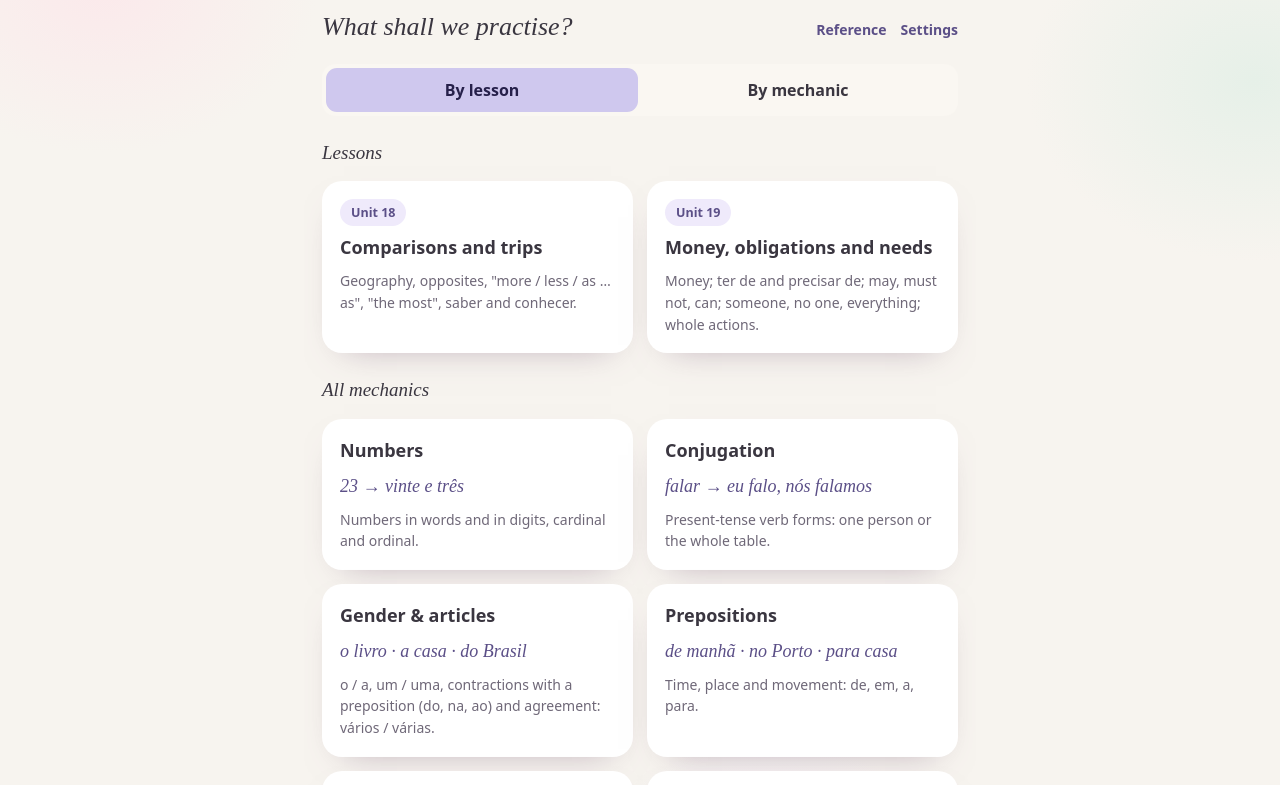
it: Home › switches to a flat list of mechanics tagged by unit, and remembers the choice
This screenshot has width=1280, height=785.
Click the button with test id "home-view-mechanics": coordinates (798, 90) [642,68,954,112]
(page scrolled)
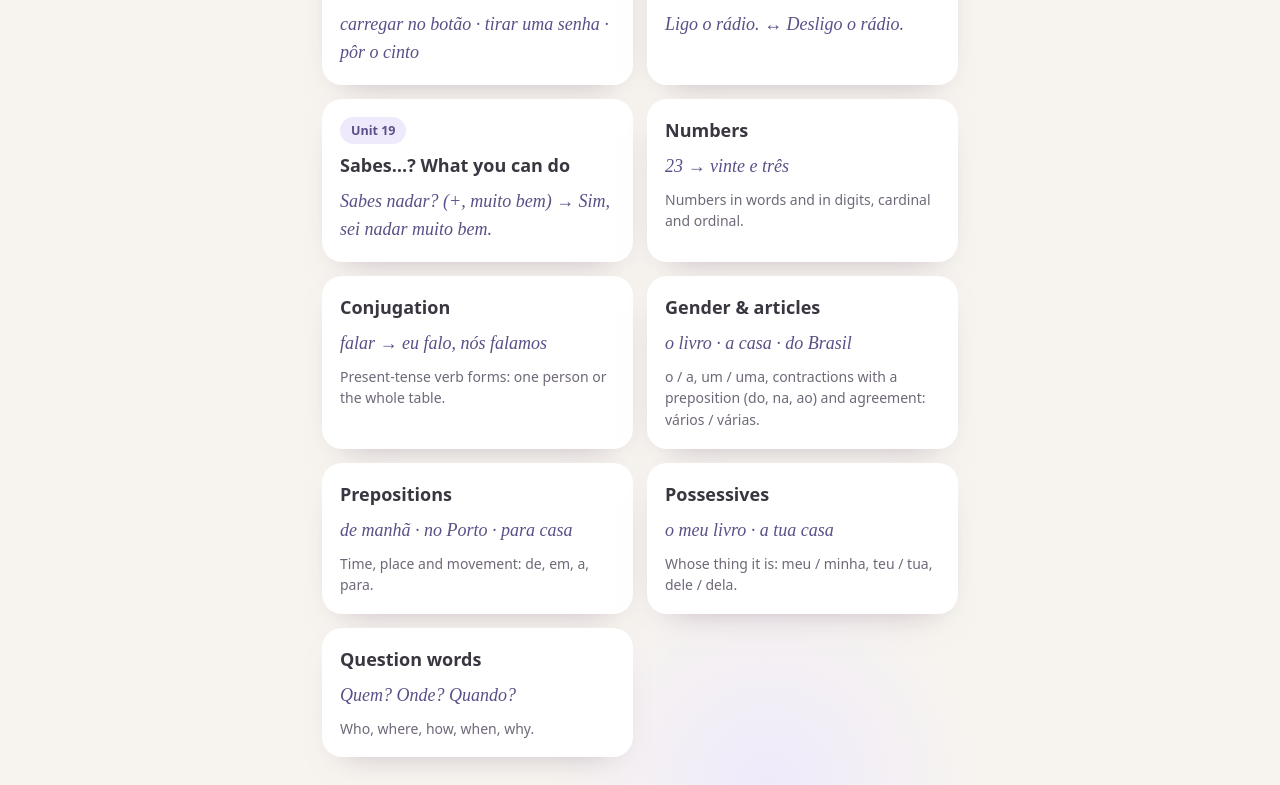
Check: the link with test id "home-pack-unit-18" is gone
